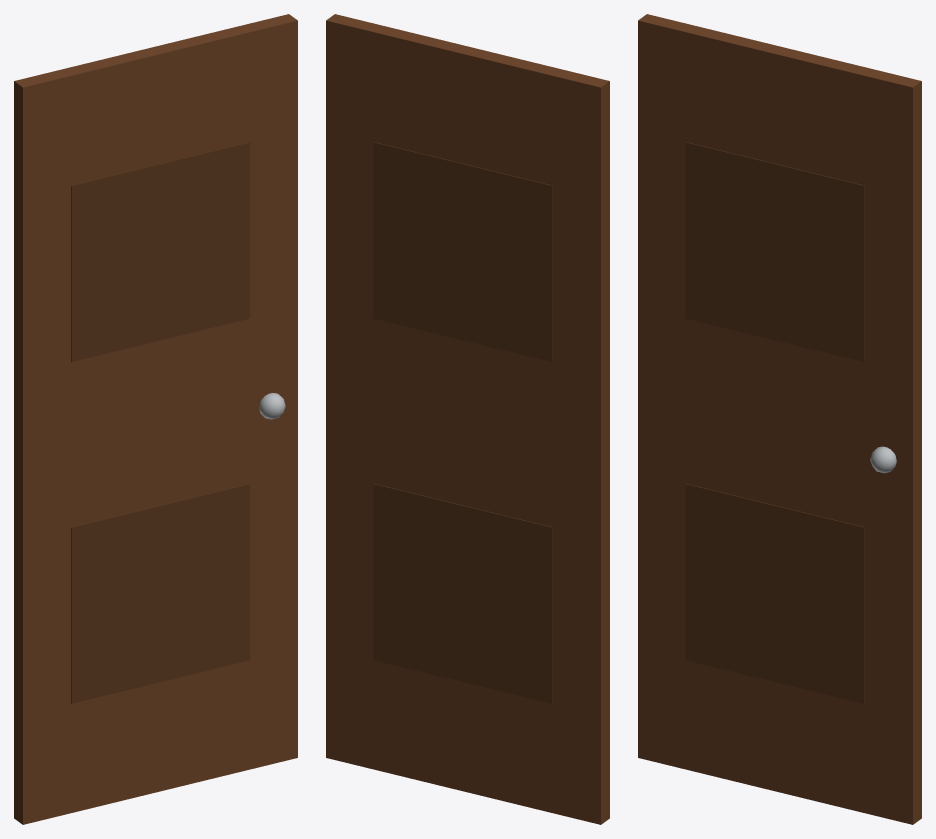
File: door.glb
3 renders of one model, left to right at view 1: azimuth 30°, elevation 25°; view 2: azimuth 150°, elevation 25°; view 3: azimuth 330°, elevation 25°, orthographic.
Visible parts, largest first — view 1: door; view 2: door; view 3: door.
Part boxes in pixels (x1,y1,x2,y2): door: (14, 14, 297, 824); door: (326, 14, 609, 824); door: (638, 14, 921, 824).
Bounding box in the file's own units: 0.8 × 2.05 × 0.09.
